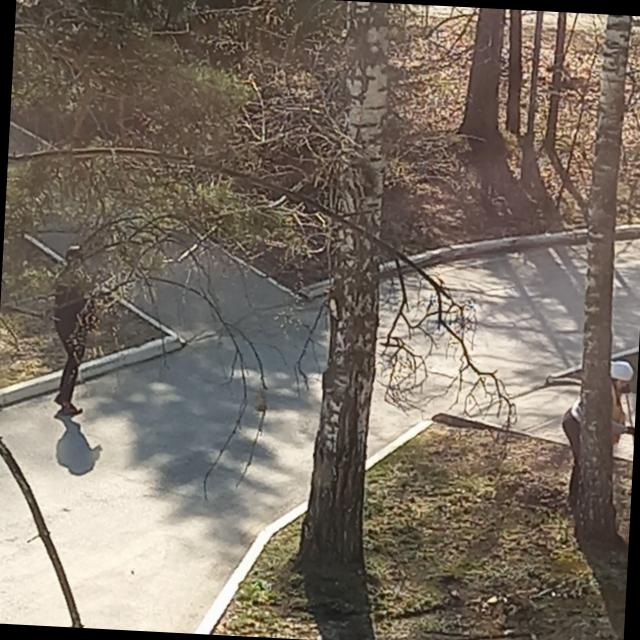person: (558, 358, 638, 511), (44, 243, 102, 417)
